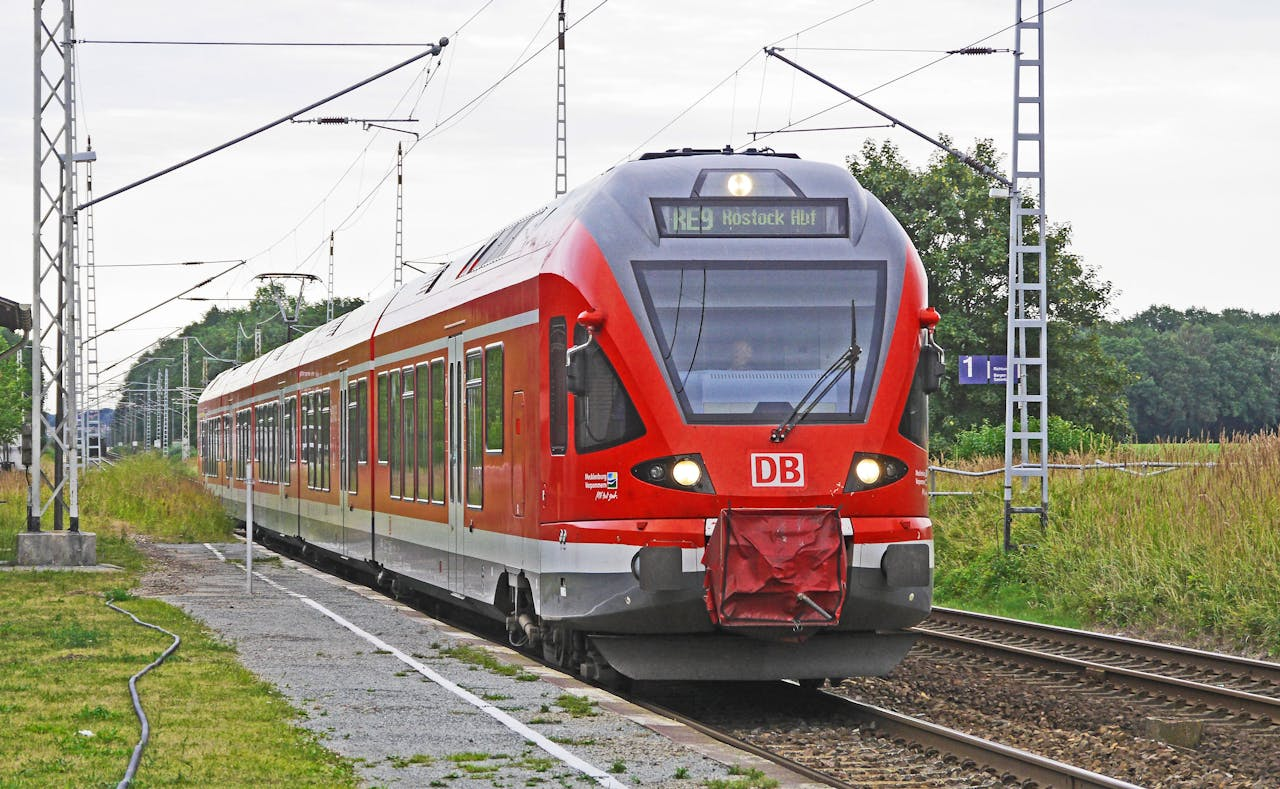train: (148, 138, 966, 714)
